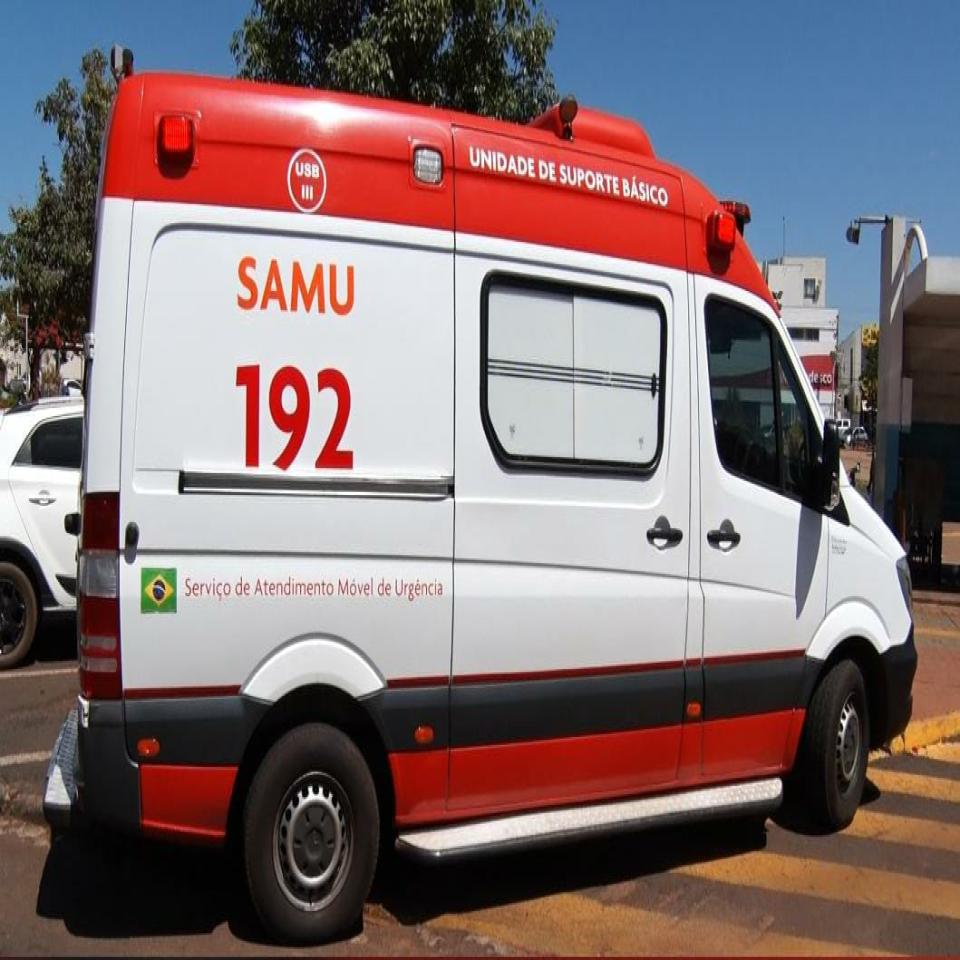bombeiro: (45, 45, 919, 942)
